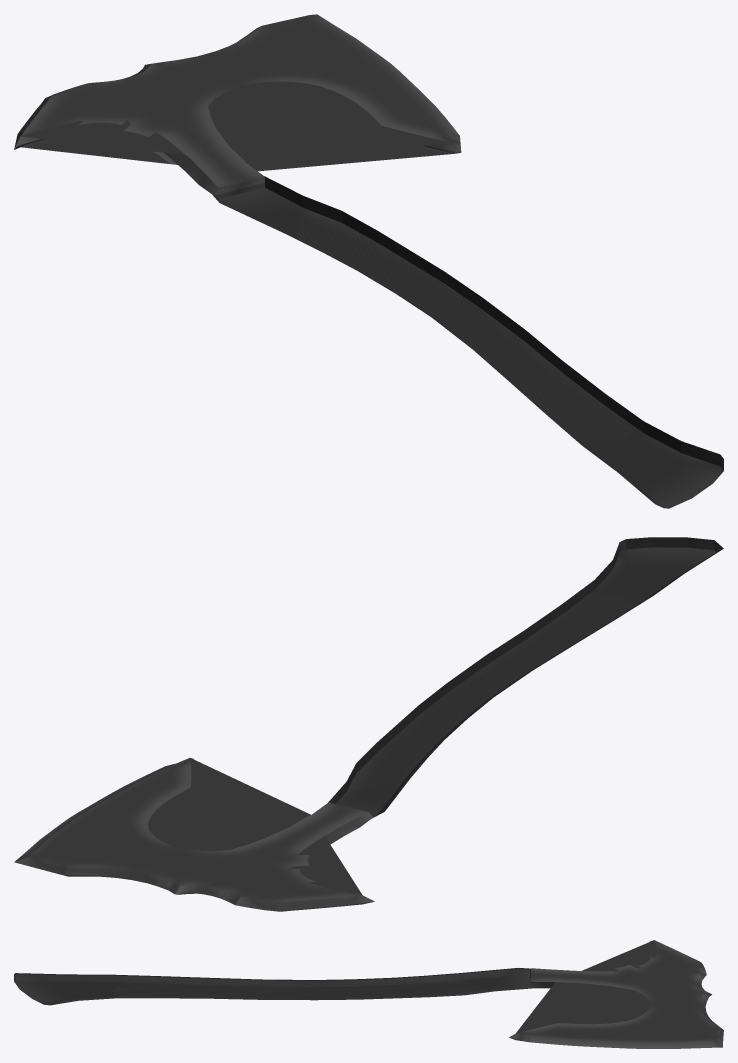
Rendered from machado98.fbx.
The picture shows the model from 3 angles, top to bottom: view 1: azimuth 30°, elevation 25°; view 2: azimuth 150°, elevation 25°; view 3: azimuth 270°, elevation 25°; orthographic projection. The views are drawn at different scales.
Parts seen in each view (by area): view 1: lamina, cabo; view 2: lamina, cabo; view 3: lamina, cabo.
Part boxes in pixels (bbox=[...]): lamina: bbox=[14, 14, 461, 198]; cabo: bbox=[212, 176, 723, 508]; lamina: bbox=[14, 758, 374, 911]; cabo: bbox=[328, 537, 723, 818]; lamina: bbox=[509, 940, 723, 1048]; cabo: bbox=[14, 968, 531, 1005].
Bounding box in the file's own units: 351 × 10.95 × 971.
